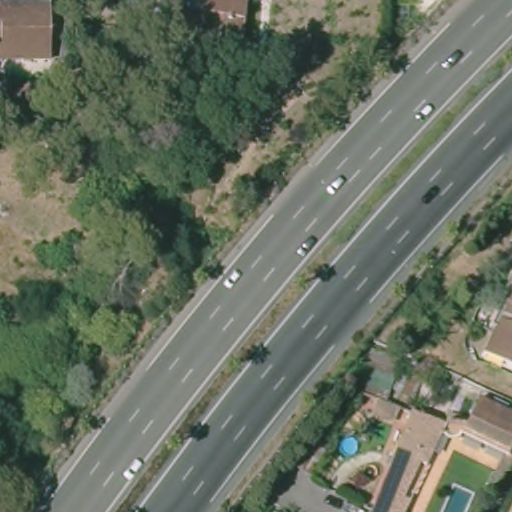pool: (338, 432, 361, 458)
